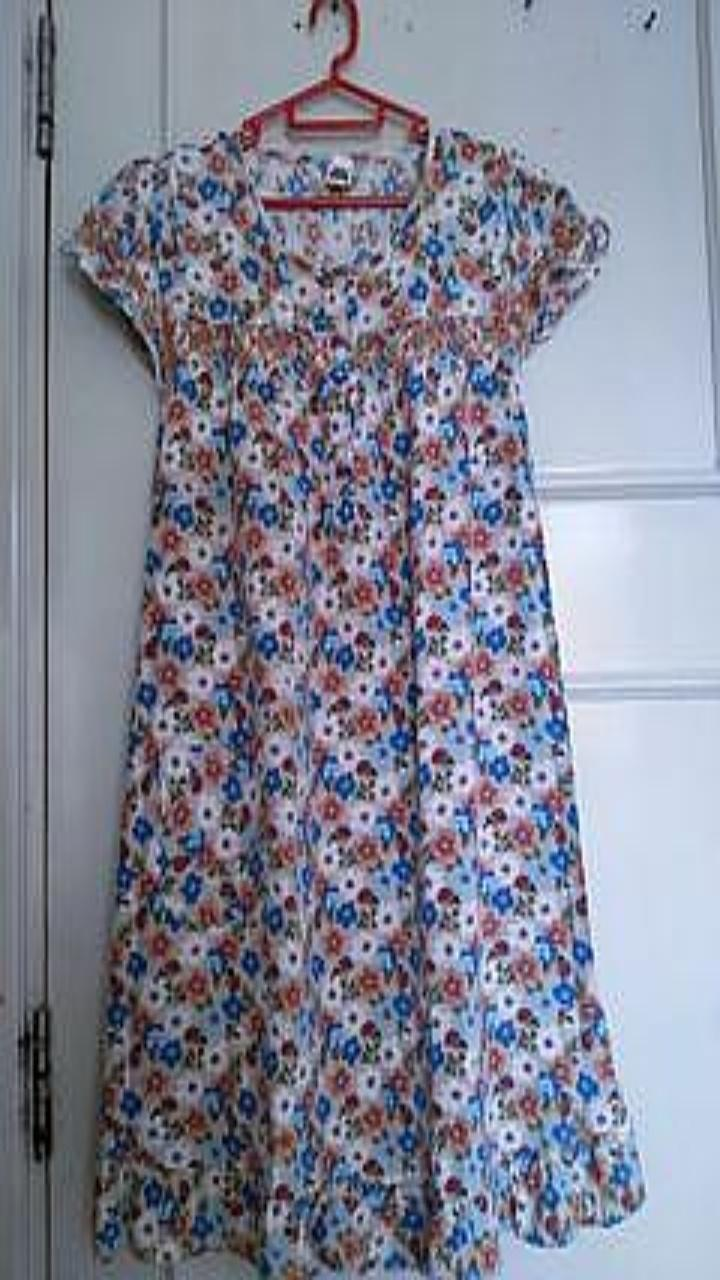Dresses: (63, 126, 644, 1279)
